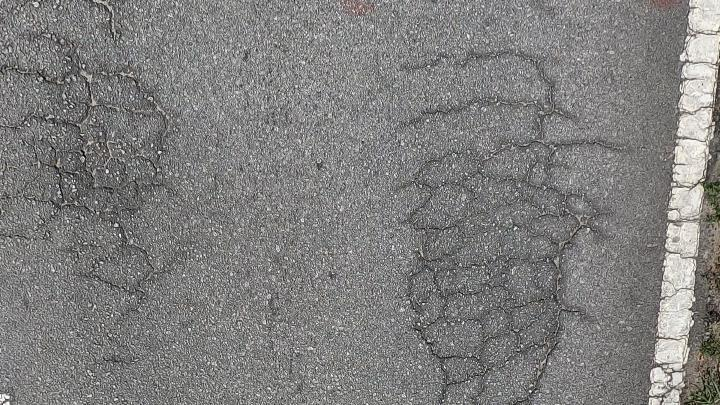Crack: (401, 44, 624, 405), (401, 51, 620, 307), (0, 0, 172, 296), (401, 152, 494, 388), (52, 45, 172, 194), (507, 309, 576, 404), (84, 218, 165, 294), (116, 154, 162, 214), (0, 124, 54, 166), (84, 0, 119, 42), (60, 196, 101, 214), (0, 63, 44, 76), (102, 139, 124, 163)
Lane: (648, 0, 720, 405), (649, 0, 719, 404)
